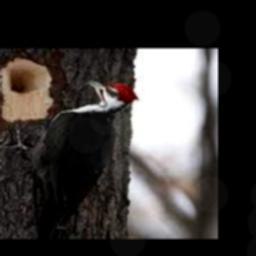Woodpecker: (5, 80, 138, 238)
